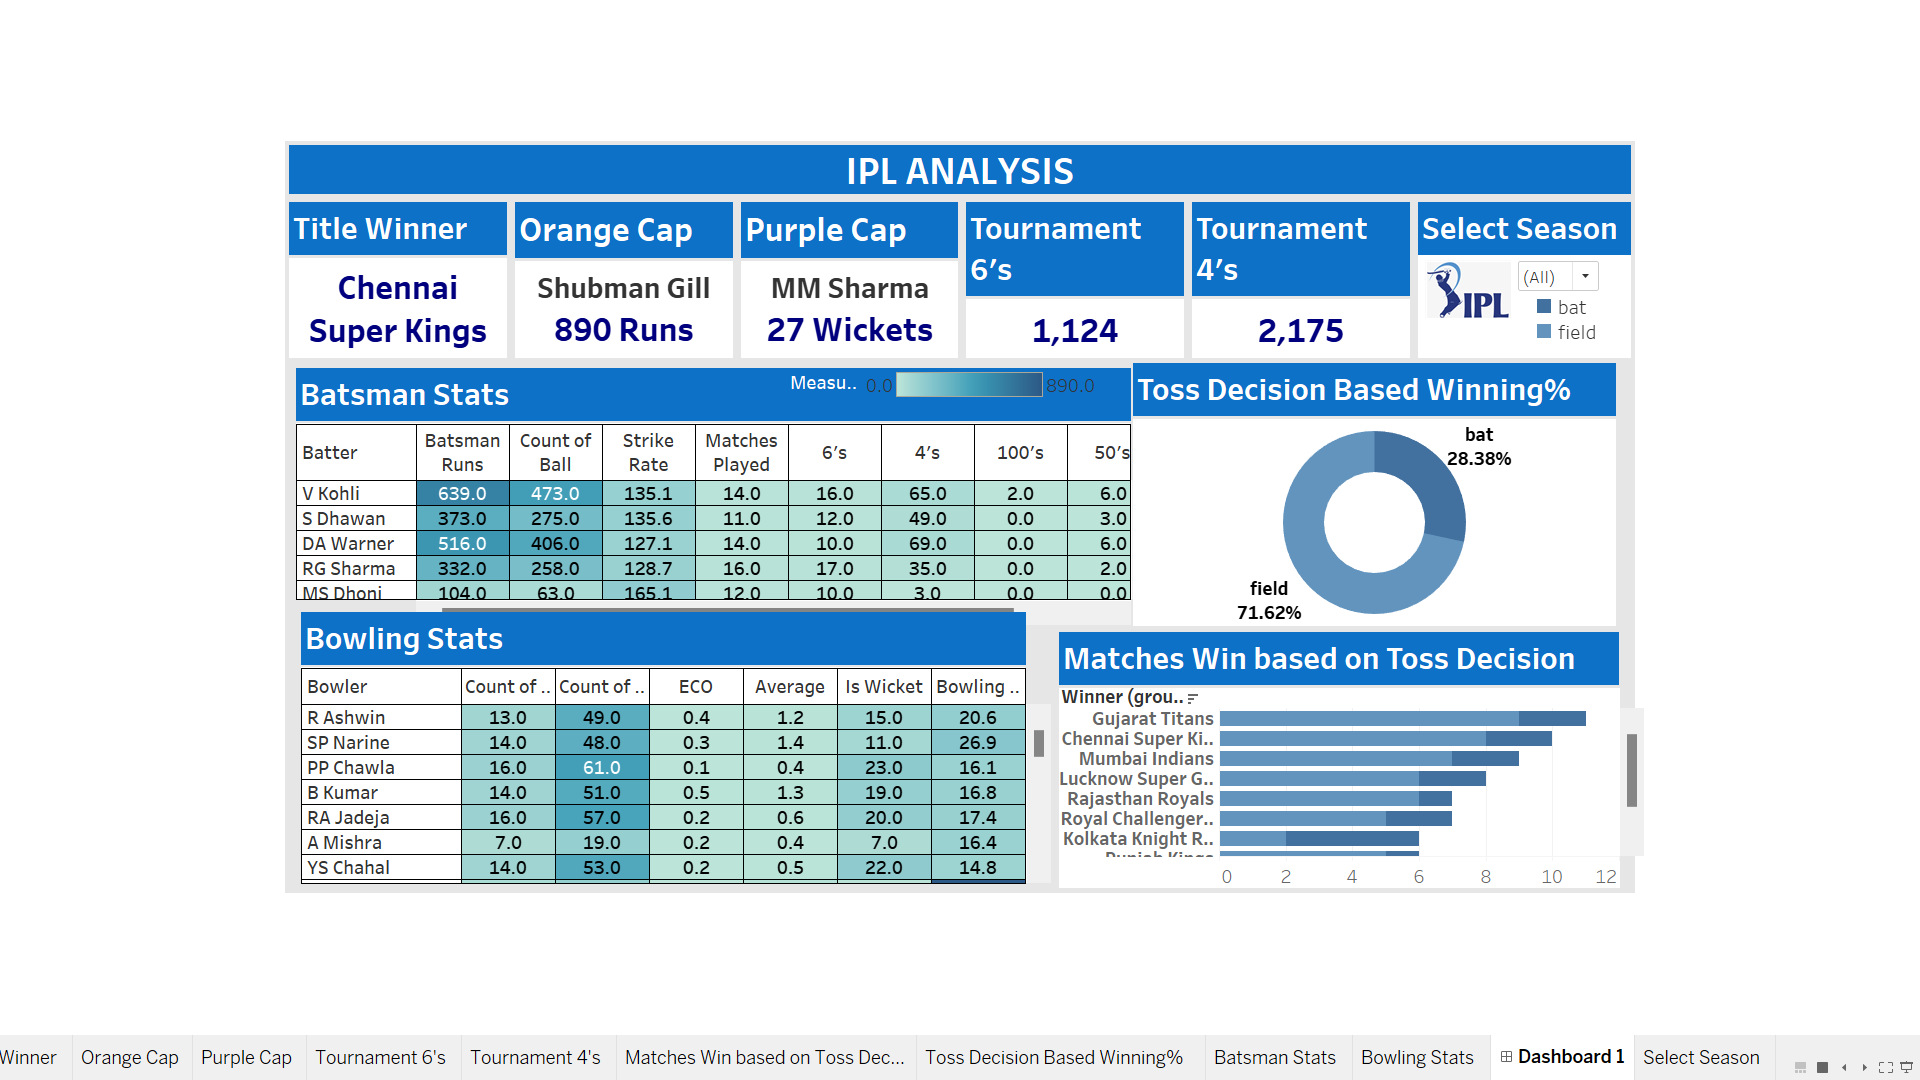

The page's visual inventory and layout, read from the dashboard file:
{"tool":"tableau","page":{"name":"Dashboard 1","canvas":[1366,768],"ordinal":0},"visuals":[{"type":"title","box":[8,8,1350,57]},{"type":"worksheet","title":"Title Winner","mark":"Automatic","box":[8,65,225.8,164]},{"type":"worksheet","title":"Orange Cap","mark":"Automatic","box":[233.8,65,225.8,164]},{"type":"worksheet","title":"Purple Cap","mark":"Automatic","box":[459.6,65,225.8,164]},{"type":"worksheet","title":"Tournament 6's","mark":"Automatic","box":[685.4,65,225.8,164]},{"type":"worksheet","title":"Tournament 4's","mark":"Automatic","box":[911.1,65,225.8,164]},{"type":"worksheet","title":"Select Season","mark":"Automatic","box":[1137,65,221,164]},{"type":"filter","title":"Title Winner","param":"[federated.0wdlg8w1dv7map1gw1ys3199lnpj].[yr:date:ok]","box":[1238,125,87,85]},{"type":"image","param":"C:/Users/varsh/Downloads/ipl logo.png","box":[1148,127,87,95]},{"type":"legend","title":"Toss Decision Based Winning%","param":"[federated.0wdlg8w1dv7map1gw1ys3199lnpj].[none:toss_decision:nk]","box":[1255,161,92,66]},{"type":"blank","box":[8,229,840,271]},{"type":"blank","box":[848,229,510,271]},{"type":"worksheet","title":"Toss Decision Based Winning%","mark":"Pie","cols":["Calculation_2442921342227554306","Calculation_2442921342227595268"],"box":[856,230,483,263]},{"type":"worksheet","title":"Batsman Stats","mark":"Square","rows":["batter"],"box":[19,235,860,257]},{"type":"legend","title":"Batsman Stats","param":"[federated.0wdlg8w1dv7map1gw1ys3199lnpj].[Multiple Values]","box":[513,235,310,52]},{"type":"worksheet","title":"Bowling Stats","mark":"Square","rows":["bowler"],"box":[24,479,929,272]},{"type":"worksheet","title":"Matches Win based on Toss Decision","mark":"Automatic","cols":["winner"],"box":[782,499,585,256]},{"type":"blank","box":[8,500,840,260]},{"type":"blank","box":[848,500,510,260]}]}

Visuals, with their boxes on the page's 1366x768 design canvas (x1, y1, x2, y2). These are canvas units, not pixel positions in the 1920x1080 screenshot, which may show the page scaled, cropped or inside an application window:
title: 8:8:1358:65
"Title Winner" worksheet: 8:65:234:229
"Orange Cap" worksheet: 234:65:460:229
"Purple Cap" worksheet: 460:65:685:229
"Tournament 6's" worksheet: 685:65:911:229
"Tournament 4's" worksheet: 911:65:1137:229
"Select Season" worksheet: 1137:65:1358:229
"Title Winner" filter: 1238:125:1325:210
image: 1148:127:1235:222
"Toss Decision Based Winning%" legend: 1255:161:1347:227
blank: 8:229:848:500
blank: 848:229:1358:500
"Toss Decision Based Winning%" worksheet (Pie marks): 856:230:1339:493
"Batsman Stats" worksheet (Square marks): 19:235:879:492
"Batsman Stats" legend: 513:235:823:287
"Bowling Stats" worksheet (Square marks): 24:479:953:751
"Matches Win based on Toss Decision" worksheet: 782:499:1367:755
blank: 8:500:848:760
blank: 848:500:1358:760
